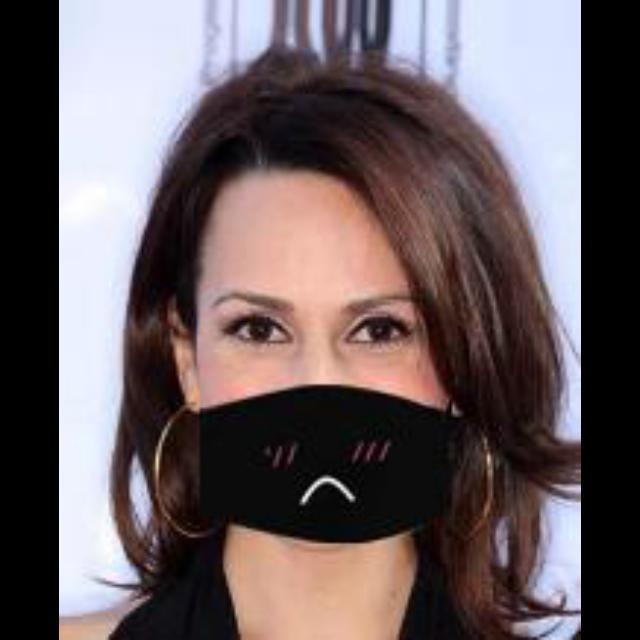suspicion: (160, 158, 492, 564)
